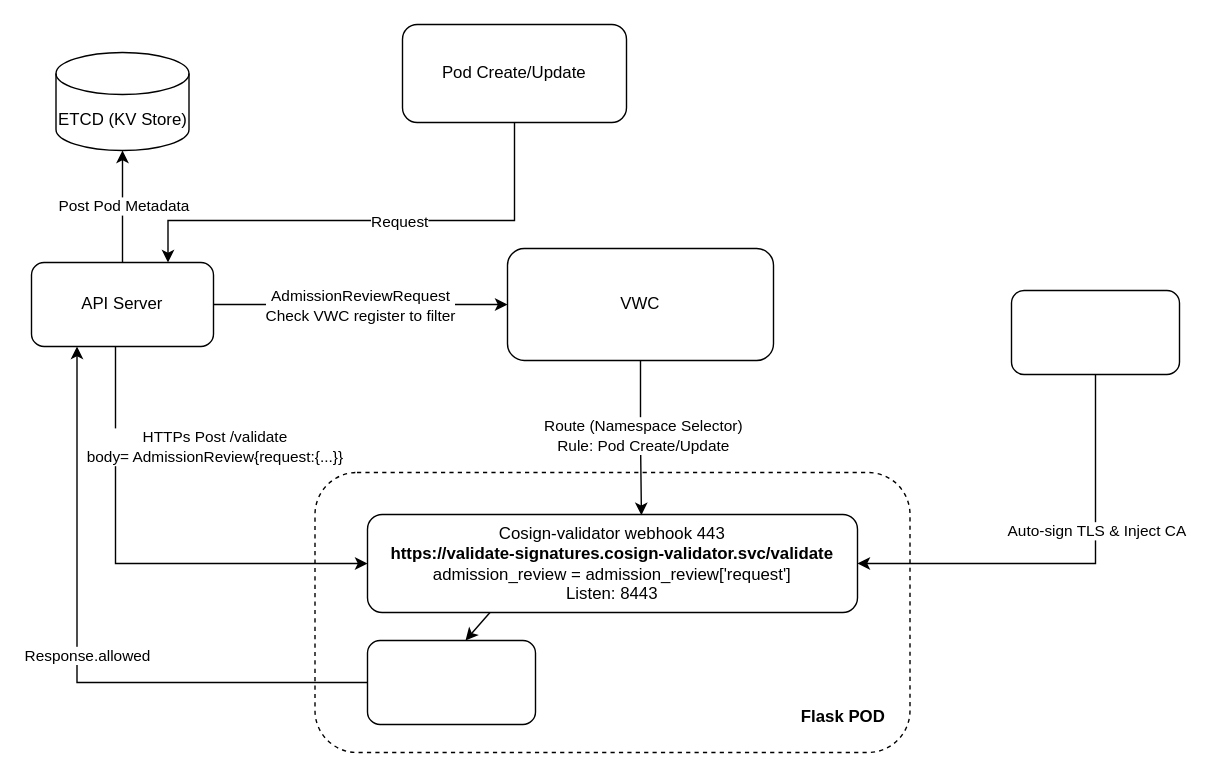
Image size: 1210x777. Some labels were removed from this diagram. The shapes that lost their labels are listed below. From the top down, each one's centre as x and y in pixels, then its label:
point (1095, 331): Cert-Manager
point (451, 681): Signature Validation (public key in Vault)
